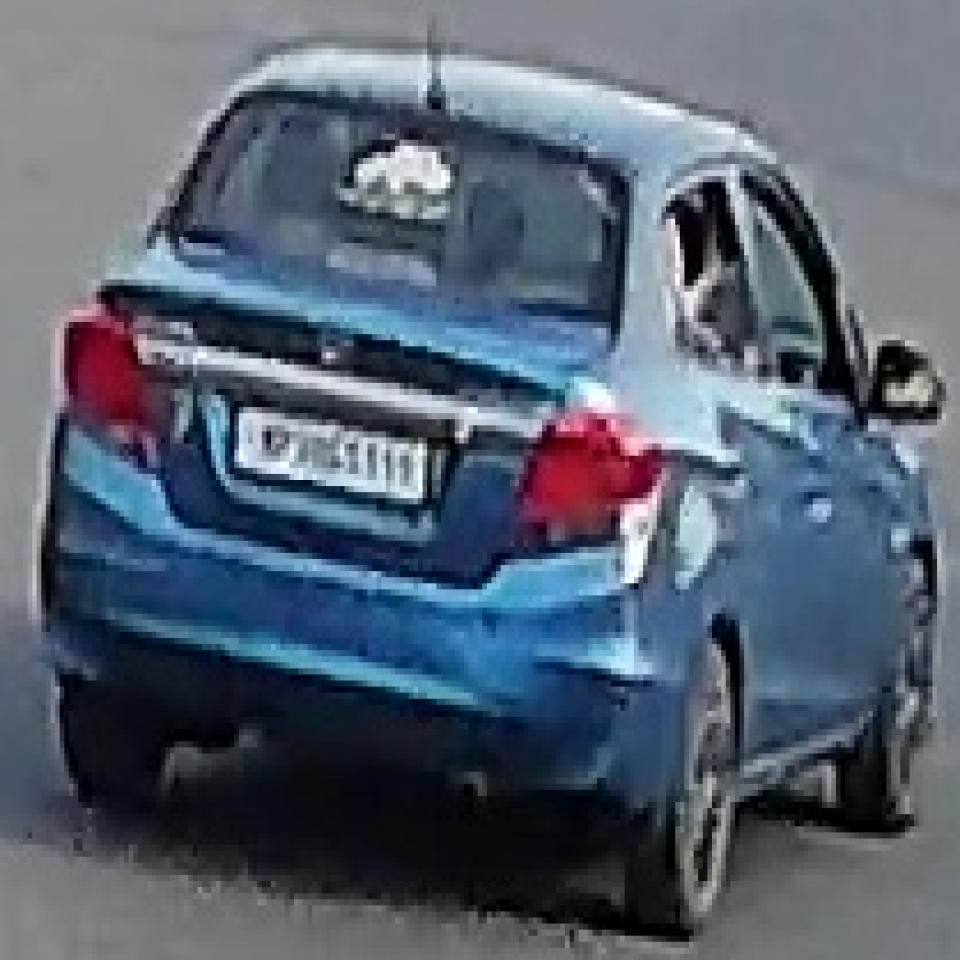tail_light: (520, 409, 662, 529), (60, 307, 143, 424)
